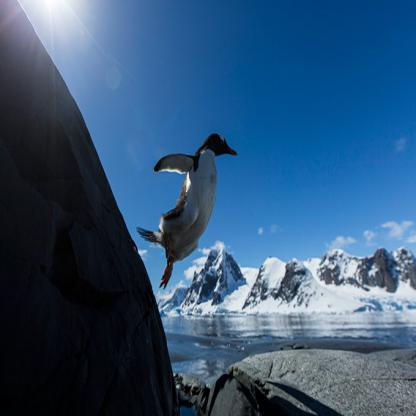Penguin: (123, 94, 244, 282)
